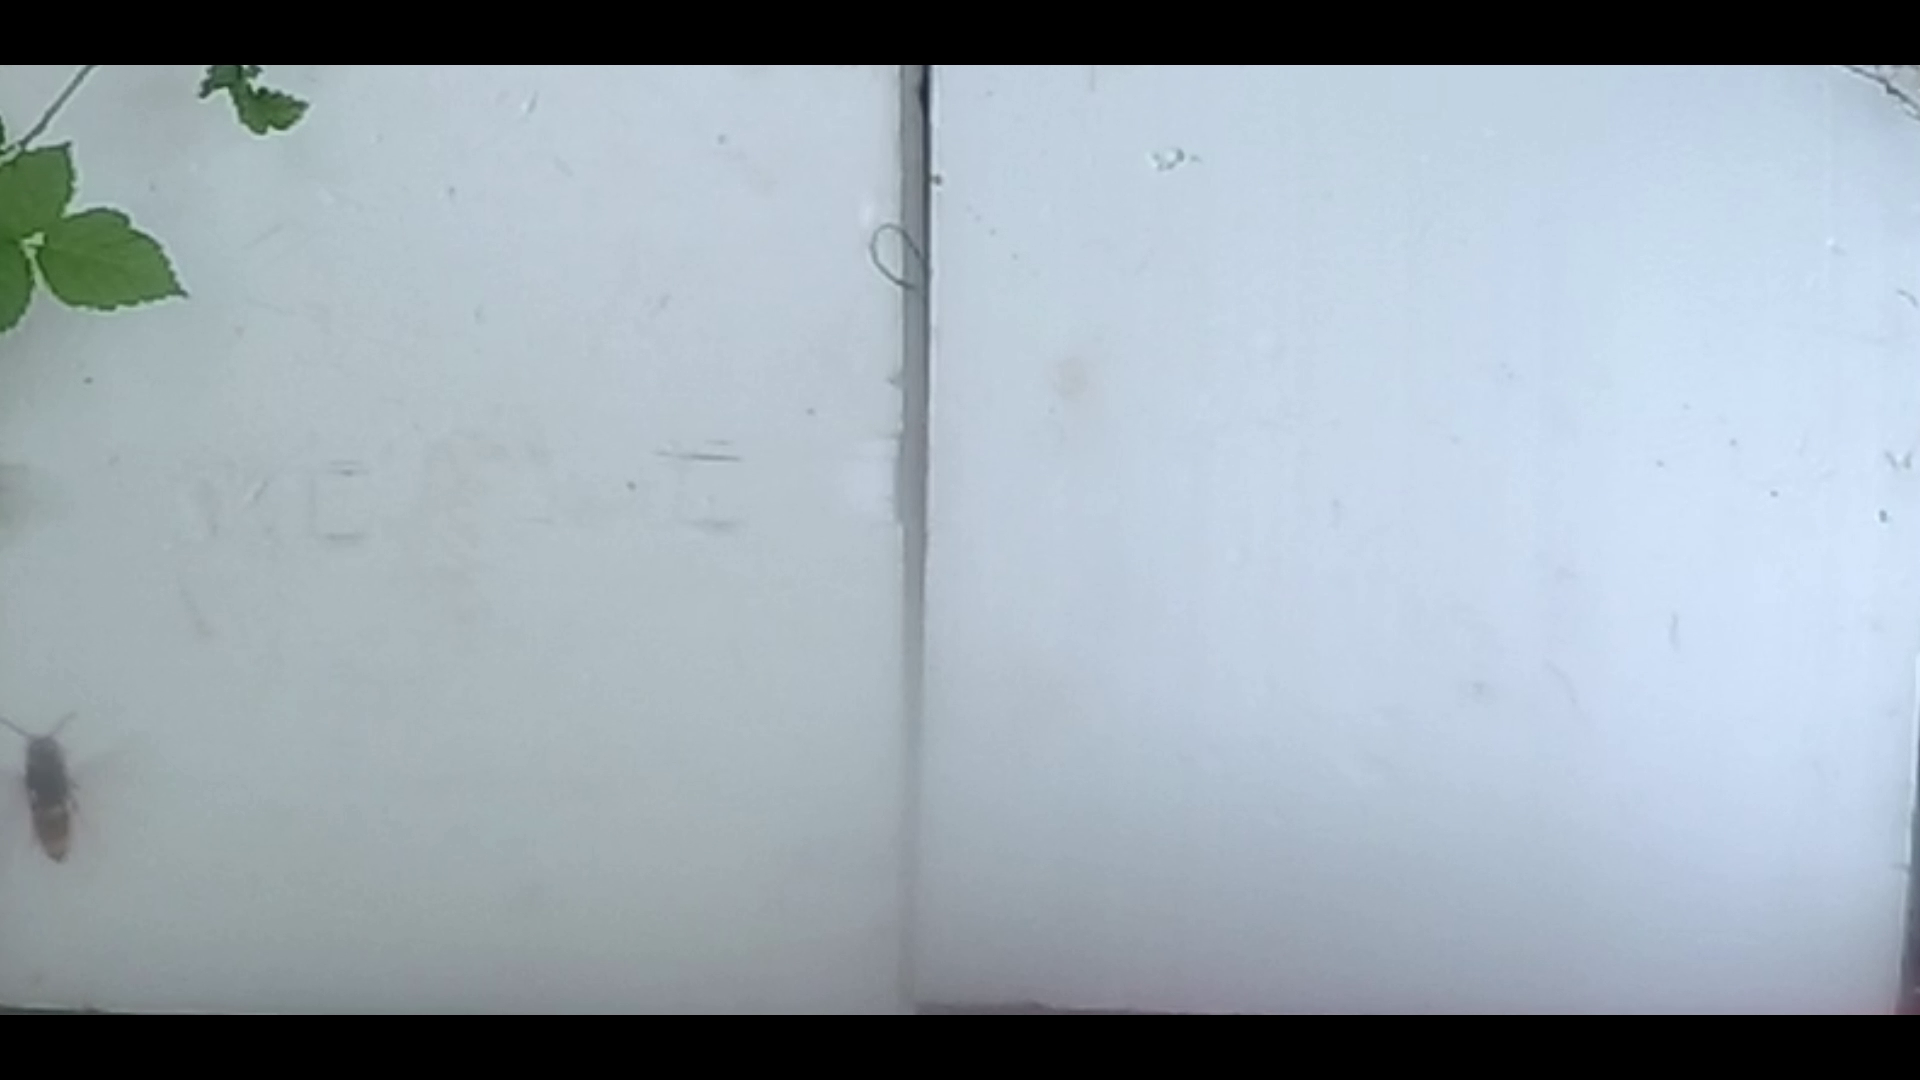Asian_hornets: (0, 691, 109, 877)
